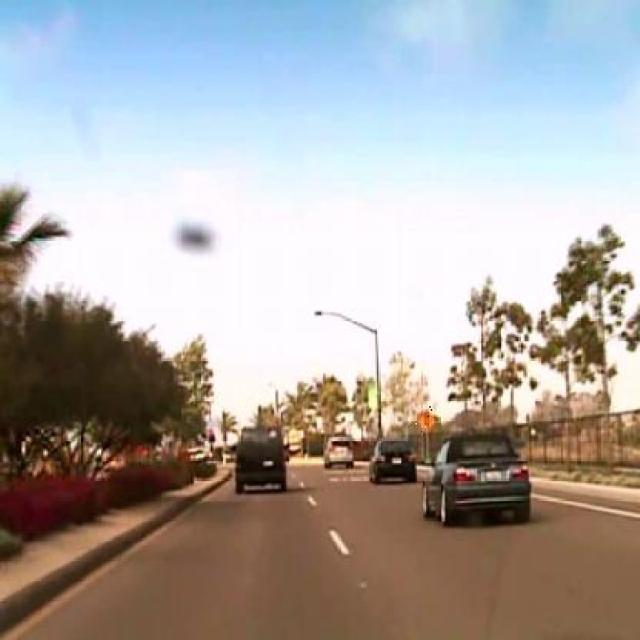signalAhead: (416, 408, 436, 435)
